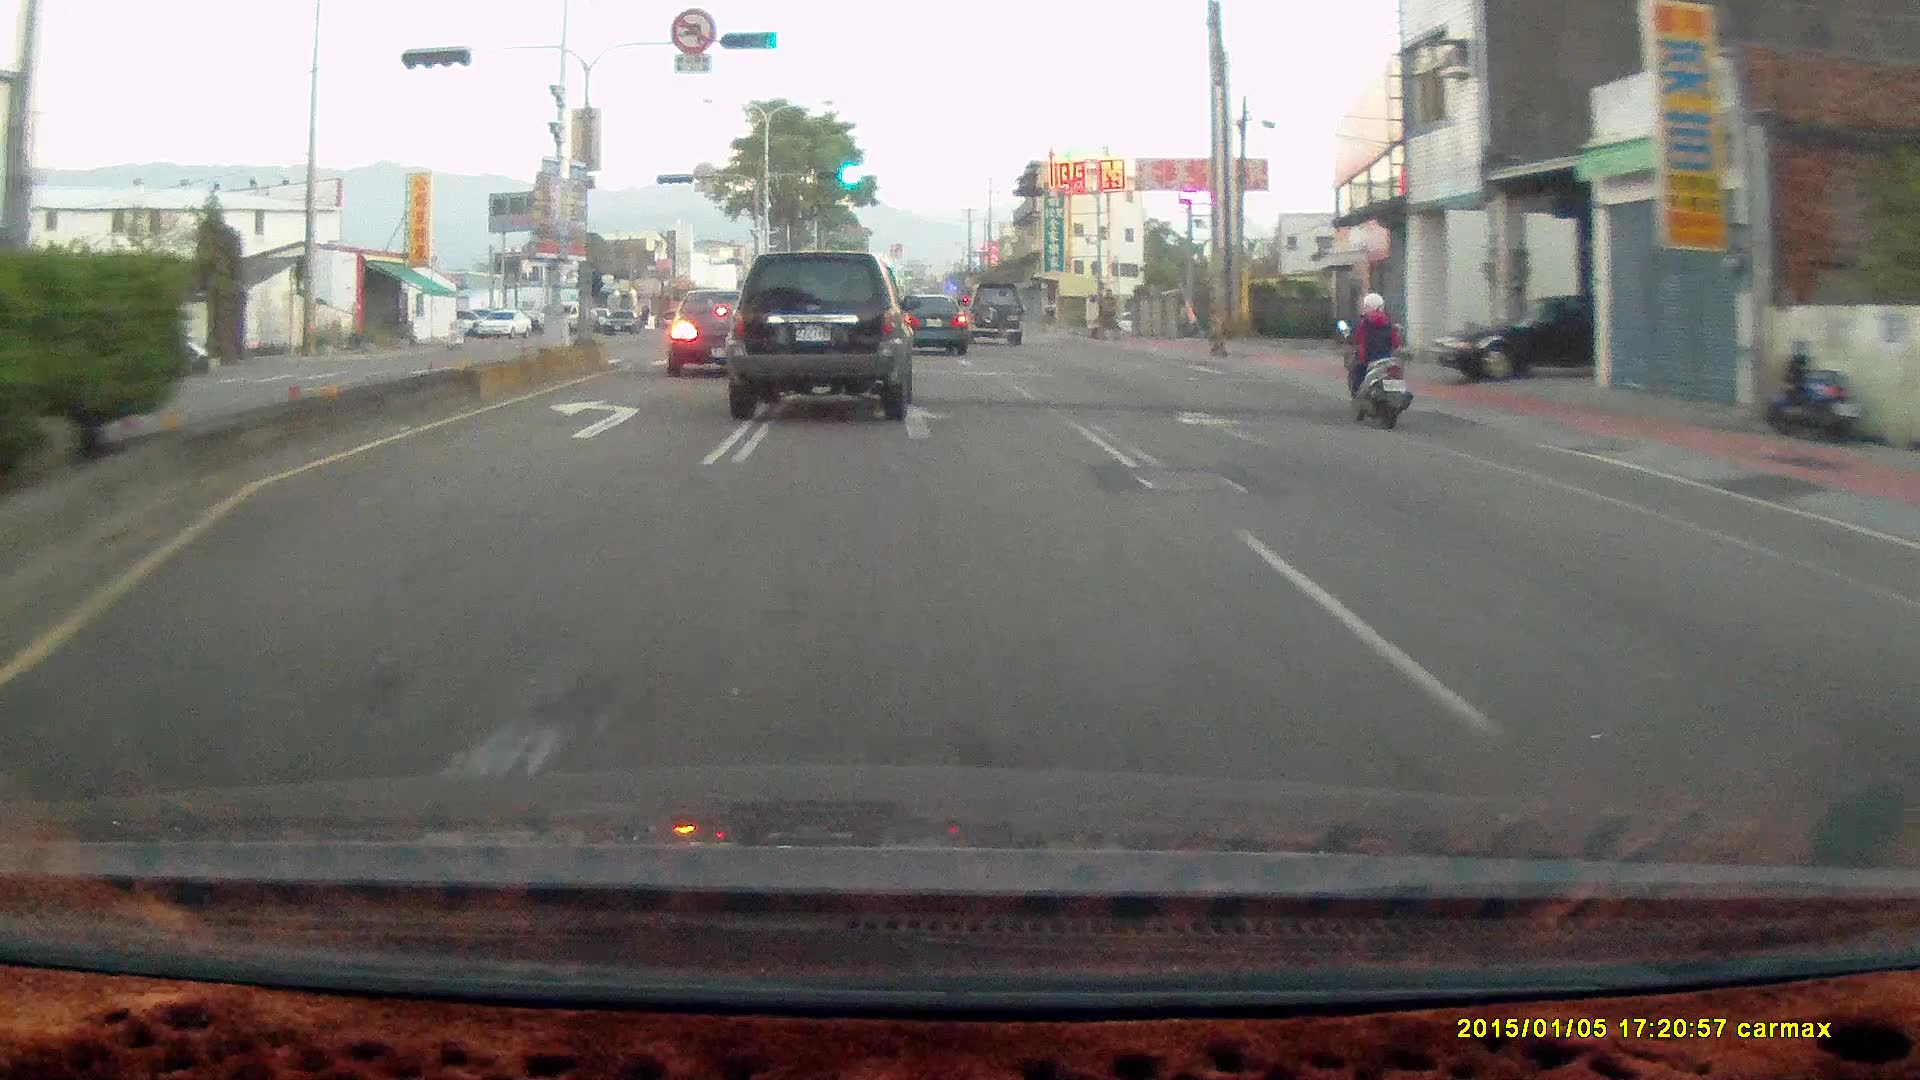rider: (1330, 283, 1426, 437), (1335, 286, 1413, 424)
vehicle: (731, 255, 924, 433), (725, 250, 921, 419), (1429, 292, 1666, 381), (1428, 293, 1609, 381), (669, 286, 779, 375), (665, 288, 774, 374), (894, 292, 971, 355), (889, 290, 967, 352), (960, 282, 1028, 349), (960, 278, 1026, 342), (472, 306, 532, 337), (534, 300, 588, 327), (604, 306, 641, 330)
